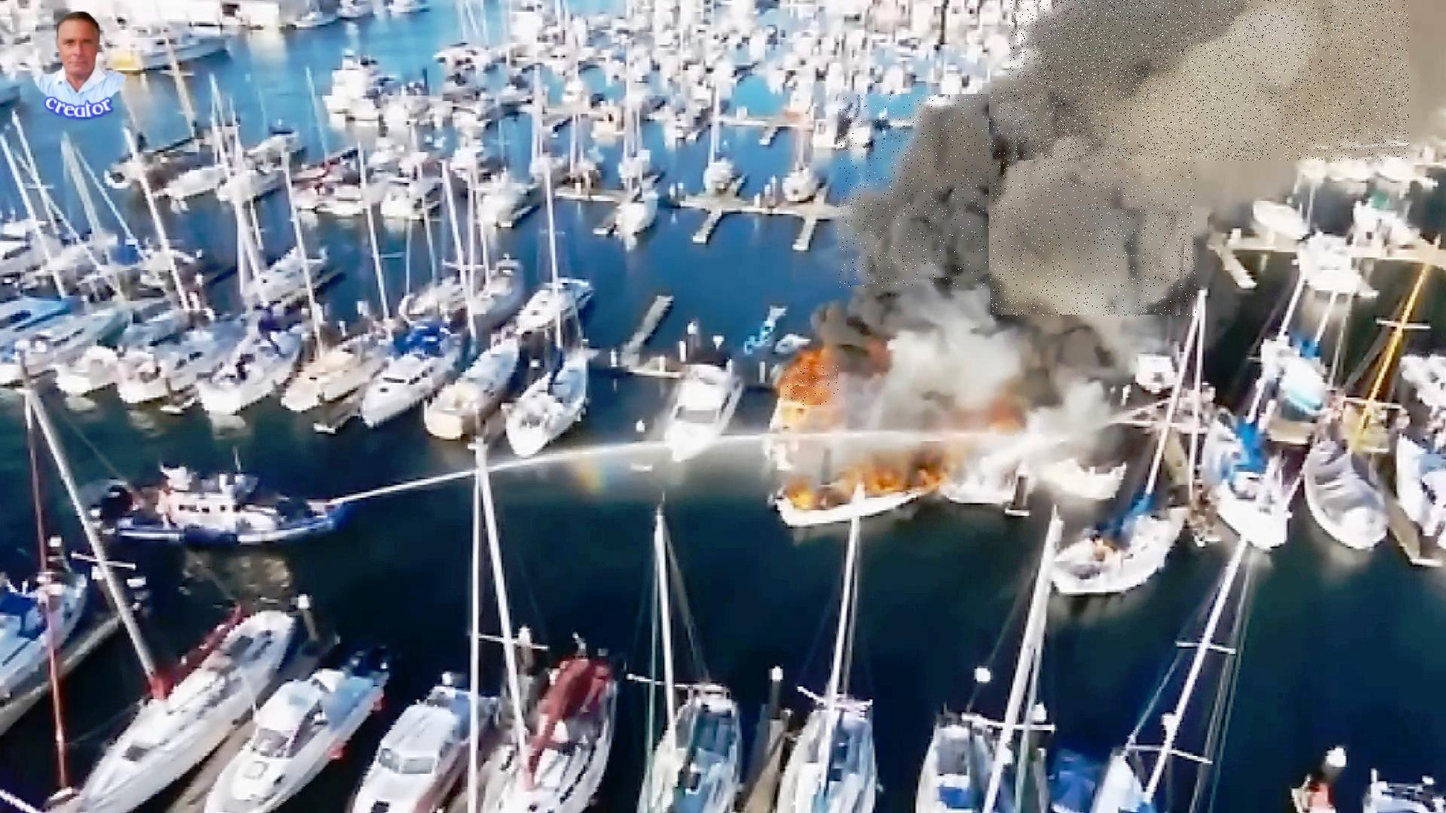fire: (783, 364, 838, 405)
smoke: (1009, 0, 1409, 160), (991, 88, 1196, 317), (838, 95, 1001, 288)
